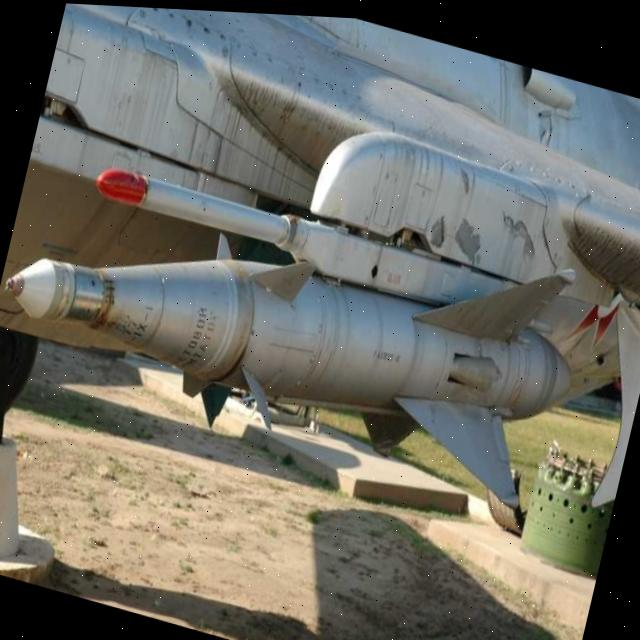missile: (0, 115, 601, 542)
